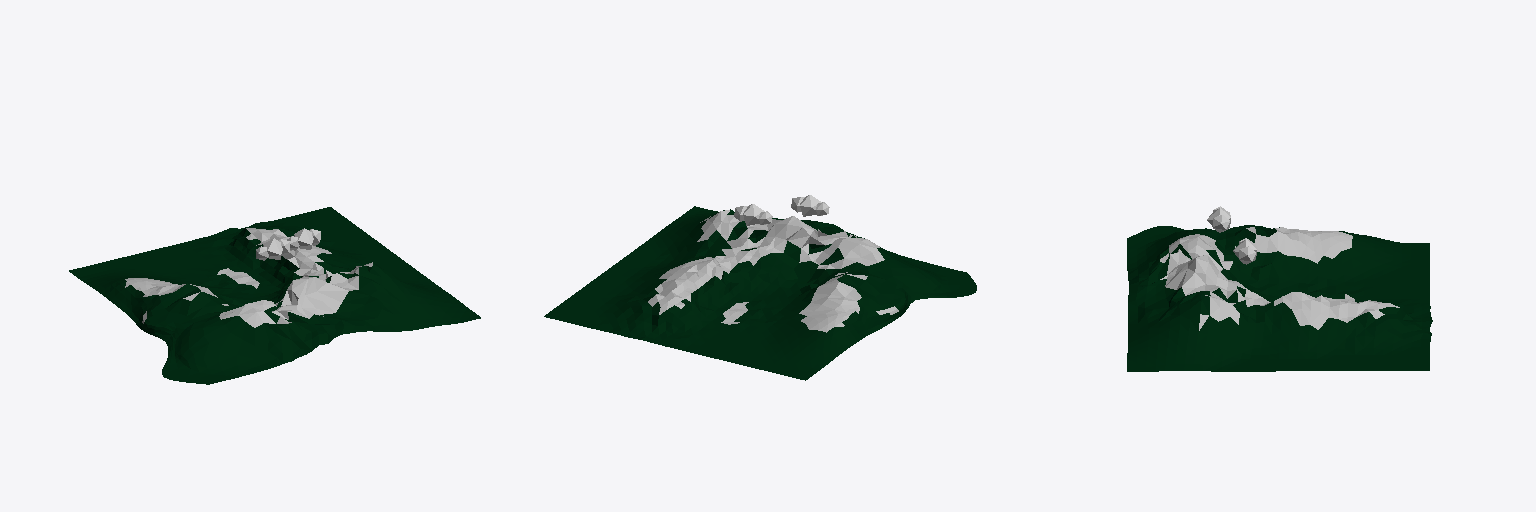
Rendered from mtn3.obj.
3 views of the same model, side by side, from view 1: azimuth 30°, elevation 25°; view 2: azimuth 150°, elevation 25°; view 3: azimuth 270°, elevation 25° (orthographic).
Parts seen in each view (by area): view 1: Plane, Icosphere.000_Icosphere.003, Icosphere.002; view 2: Plane, Icosphere.002, Icosphere.000_Icosphere.003; view 3: Plane.
Boxes of the visible parts, x1,y1,x2,y2 form: Plane: [69, 207, 480, 384]; Icosphere.000_Icosphere.003: [256, 238, 289, 260]; Icosphere.002: [287, 228, 320, 250]; Plane: [544, 206, 976, 380]; Icosphere.002: [734, 204, 772, 225]; Icosphere.000_Icosphere.003: [791, 195, 829, 216]; Plane: [1127, 225, 1432, 371].
Size of the model in its own units: 14.72 by 4.01 by 13.02.